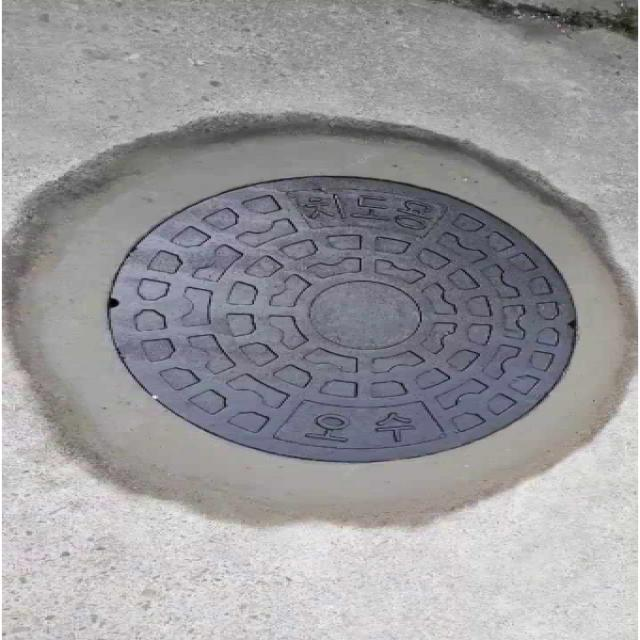manhole: (105, 174, 578, 467)
